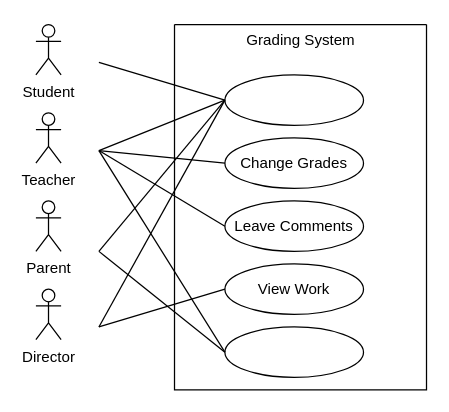
Some shapes in this 449 by 412 pixel diagram are drawn without their labels. The shapes that lost their labels are listed below. From the top down, each one's centre as x and y in pixels, then its label:
At pixel 294 99: "View Grades".
At pixel 294 351: "Get report card".
